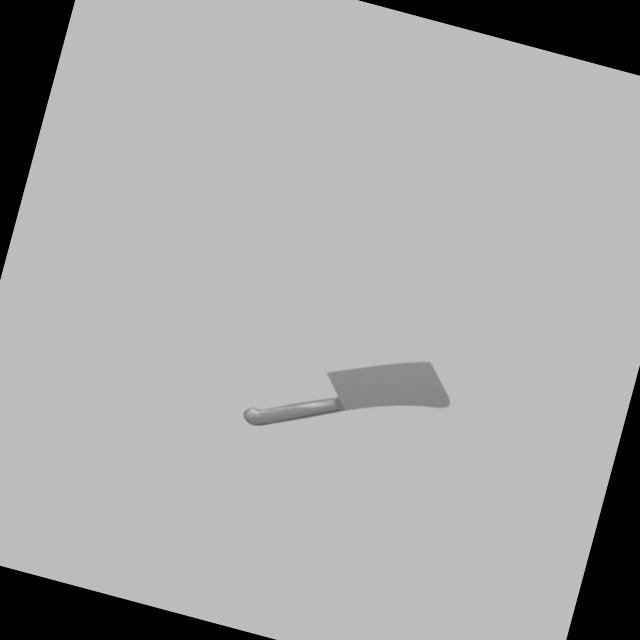knife: (241, 374, 348, 446)
